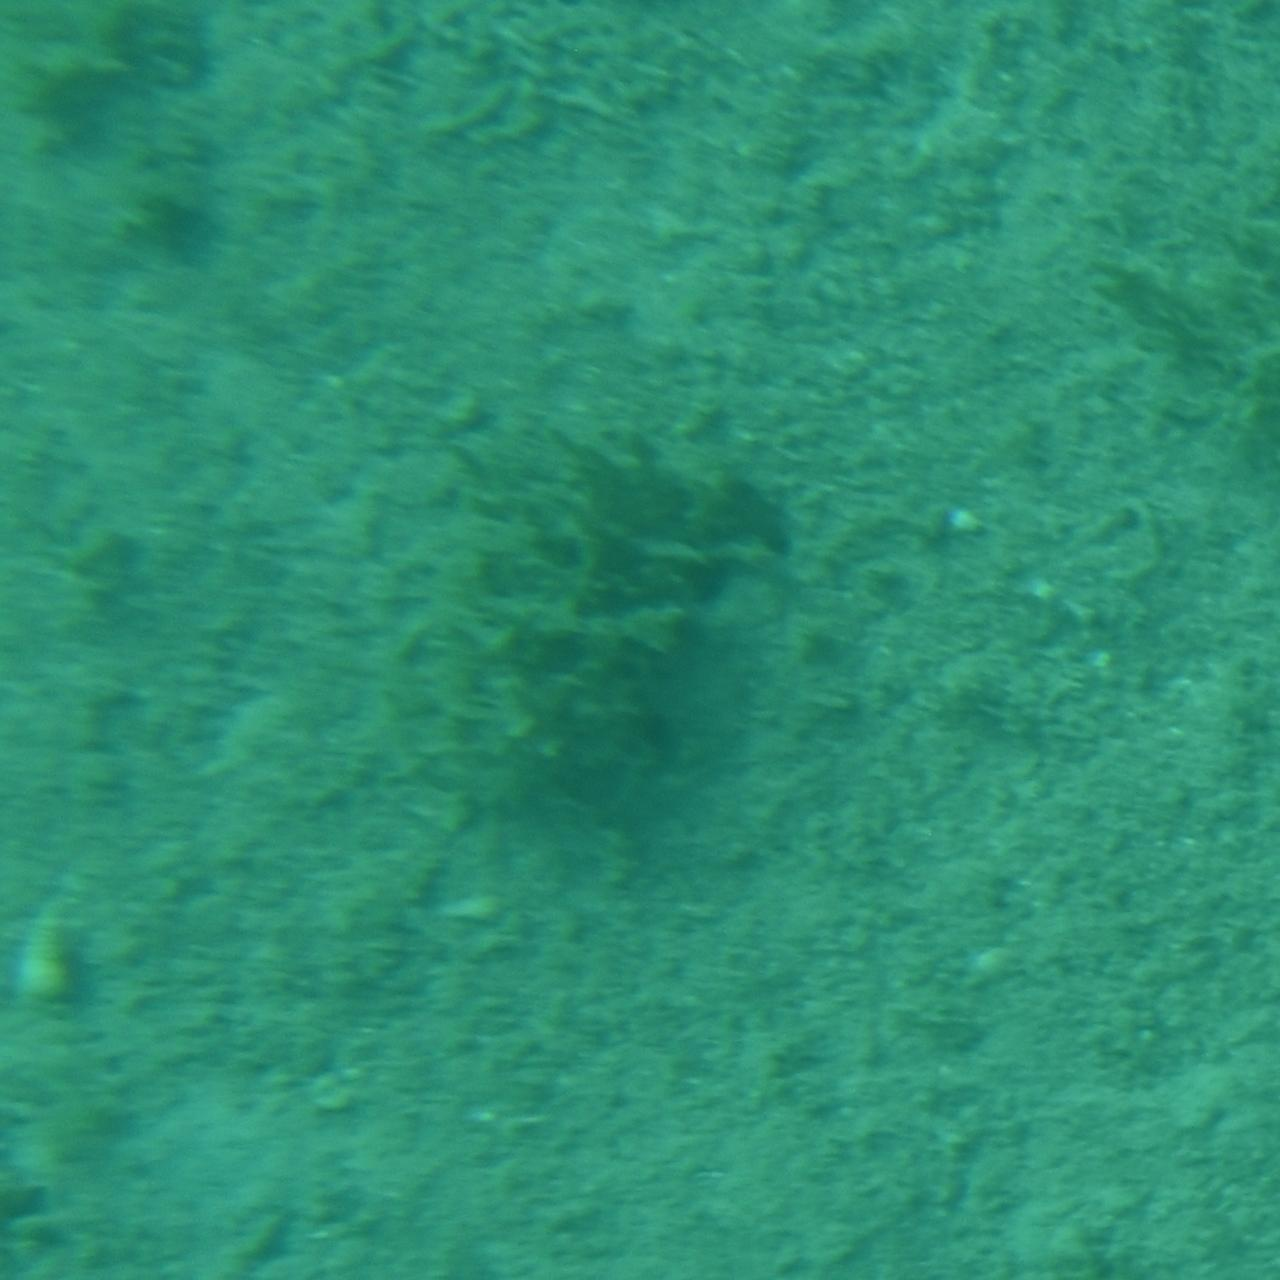Phaeophyceae -cfr Cystoseira-: (395, 414, 796, 866)
